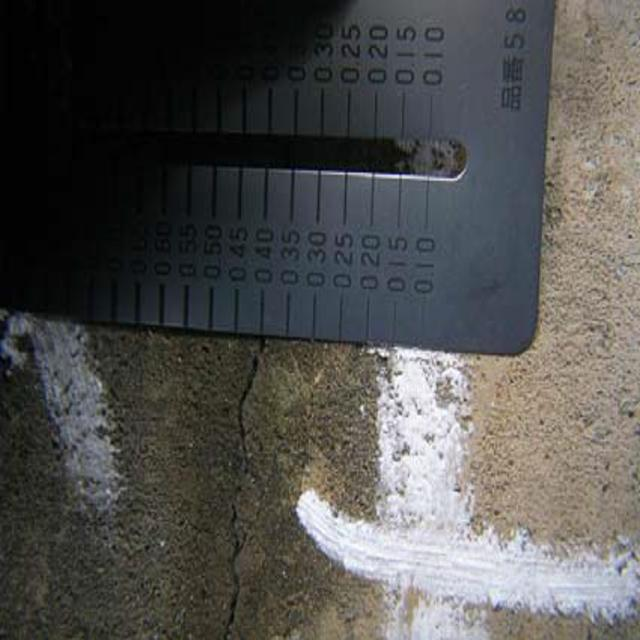crack: (191, 340, 273, 640)
